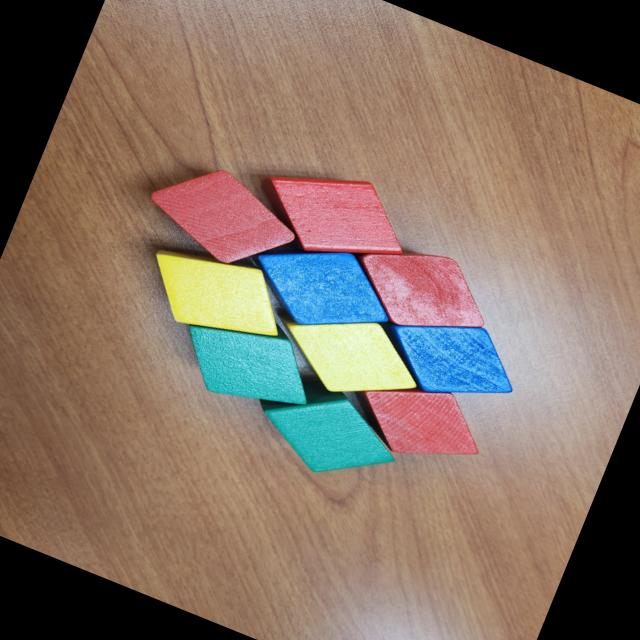blue: (237, 220, 406, 356), (365, 292, 529, 422)
green: (240, 356, 410, 498), (169, 293, 335, 431)
red: (245, 144, 421, 284), (137, 148, 308, 283), (340, 226, 501, 354), (337, 359, 496, 483)
yellow: (252, 286, 436, 423), (132, 230, 298, 360)
